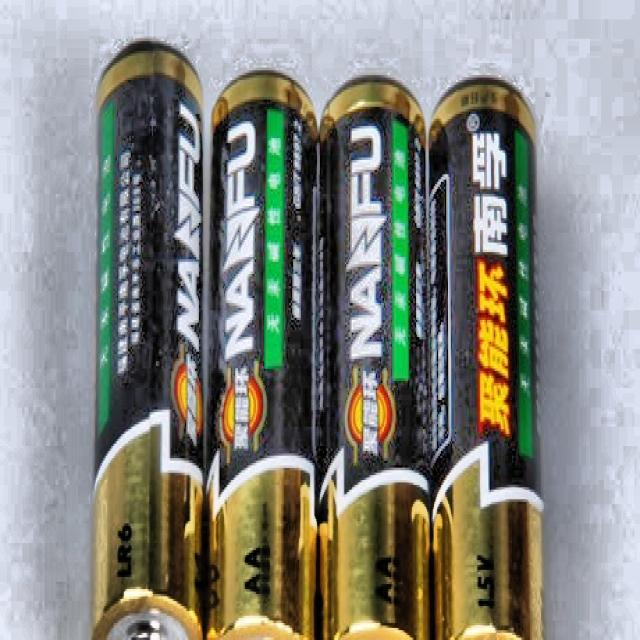Non-Valuable Waste - Batteries: (91, 44, 204, 639), (316, 78, 430, 638), (429, 81, 542, 637), (206, 74, 316, 638)
